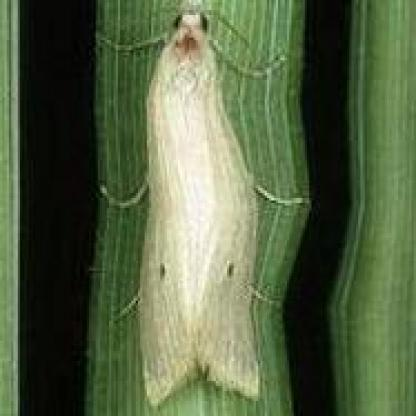stem-borer: (123, 0, 274, 416)
